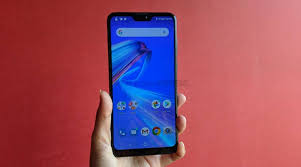asus: (104, 9, 182, 156)
